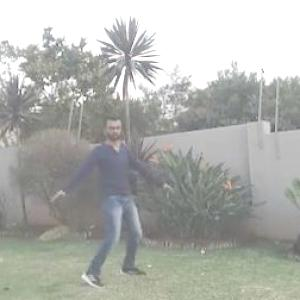land: (31, 83, 173, 299)
